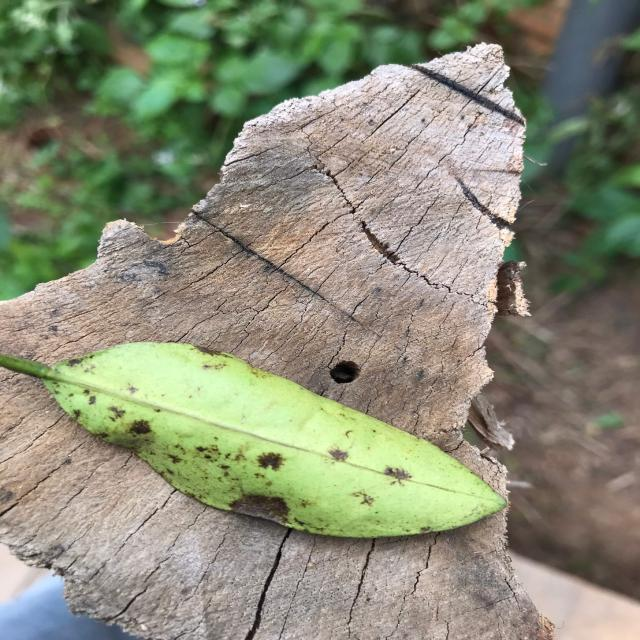melanose: (51, 338, 493, 564)
